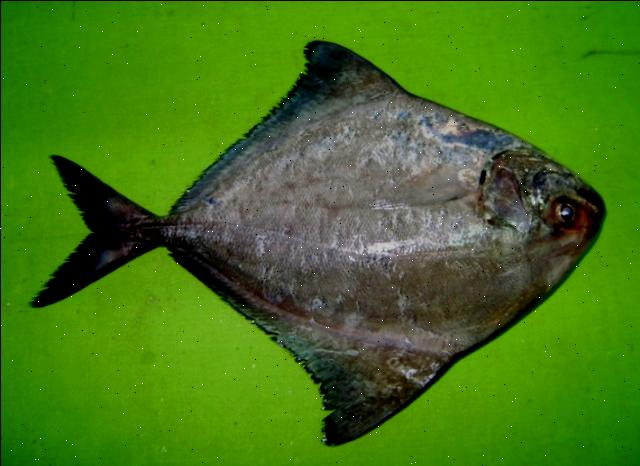Mulut: (545, 147, 625, 247)
Sirip Anal: (161, 95, 305, 225)
Sirip Dada: (350, 136, 496, 222)
Sirip Ekor: (16, 145, 164, 317)
Sirip Perut: (283, 14, 417, 114)
Sirip Punggung: (158, 247, 454, 457)
